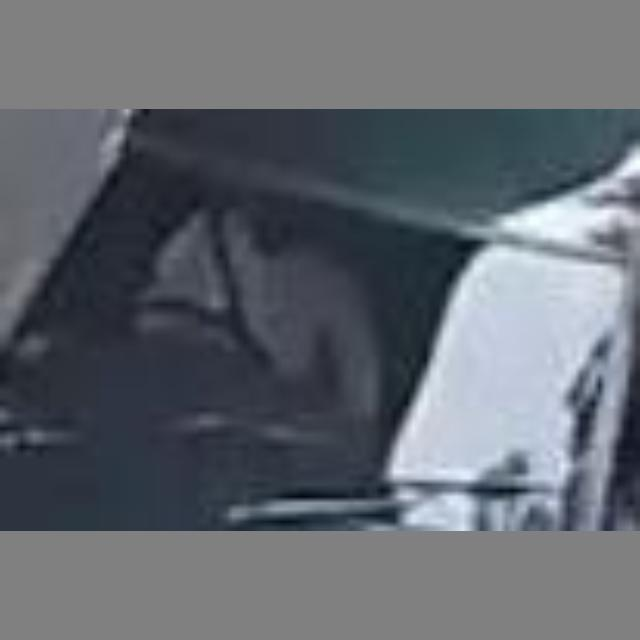pakai: (106, 190, 410, 426)
